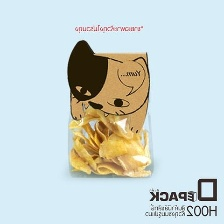snack: (60, 36, 160, 183)
